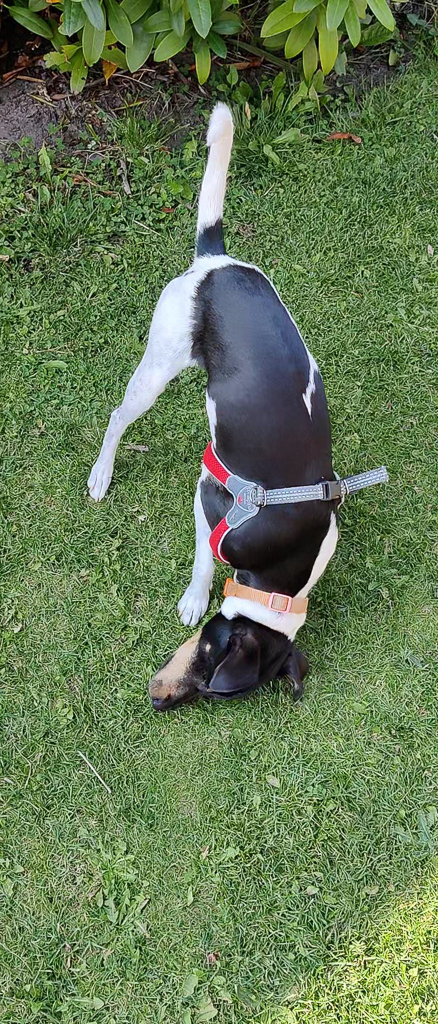Dog: (63, 75, 409, 733)
